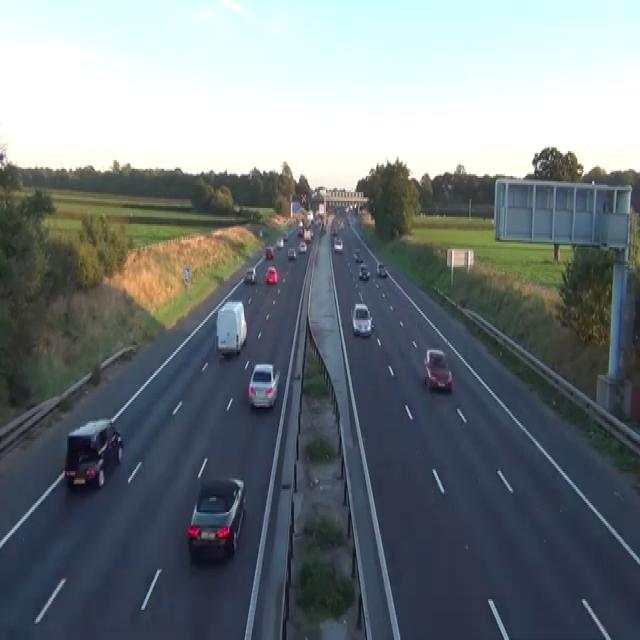Car: (187, 476, 246, 560), (64, 418, 123, 490), (247, 363, 280, 409), (423, 348, 452, 393), (351, 302, 374, 336), (265, 265, 277, 284), (244, 266, 256, 282), (358, 265, 370, 281), (333, 236, 343, 252), (376, 262, 387, 276), (303, 229, 313, 242), (265, 246, 274, 260), (353, 247, 362, 261), (287, 247, 296, 260), (276, 236, 284, 249), (298, 240, 306, 252), (306, 210, 313, 222), (356, 254, 363, 263), (297, 226, 303, 236), (283, 231, 288, 242), (339, 219, 344, 229), (346, 217, 350, 226), (310, 230, 314, 238), (299, 218, 303, 226), (259, 230, 262, 237)
Truck: (215, 300, 247, 356)
